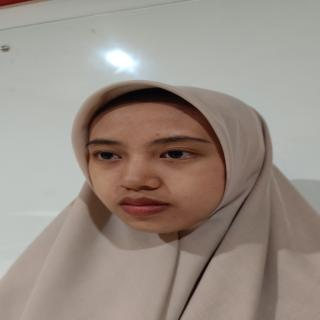Netral: (71, 87, 258, 239)
